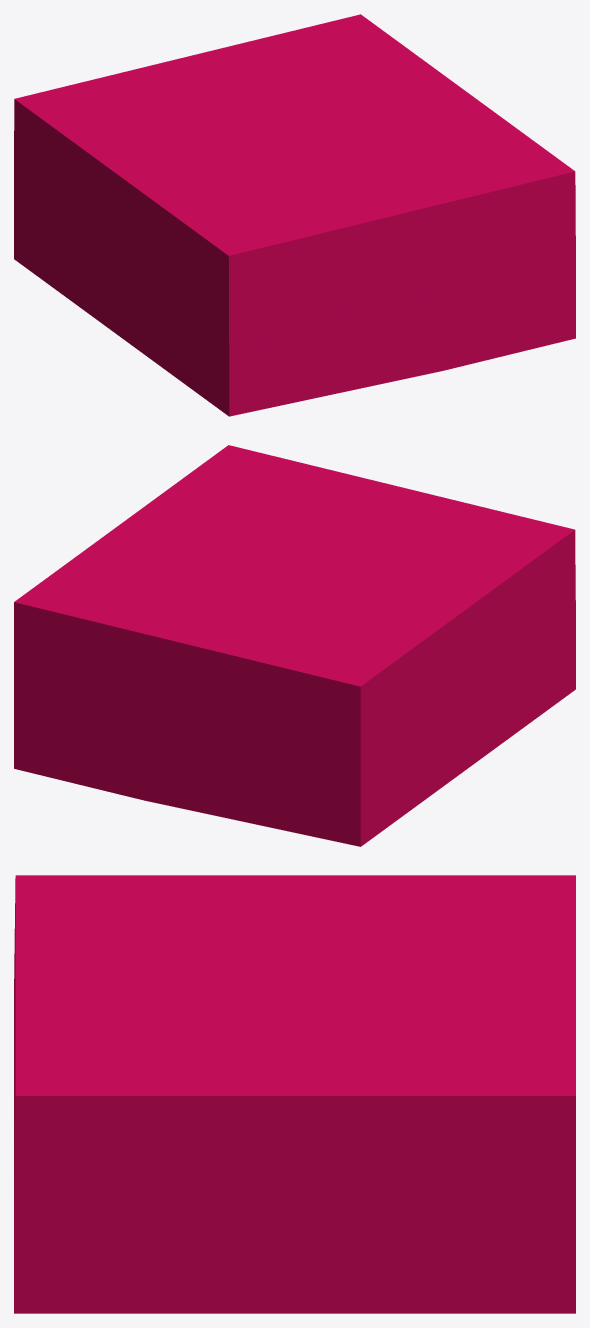
3 renders of one model, top to bottom at view 1: azimuth 30°, elevation 25°; view 2: azimuth 150°, elevation 25°; view 3: azimuth 270°, elevation 25°, orthographic. The views are drawn at different scales.
Size of the model in its own units: 1.53 by 0.7021 by 1.64.
